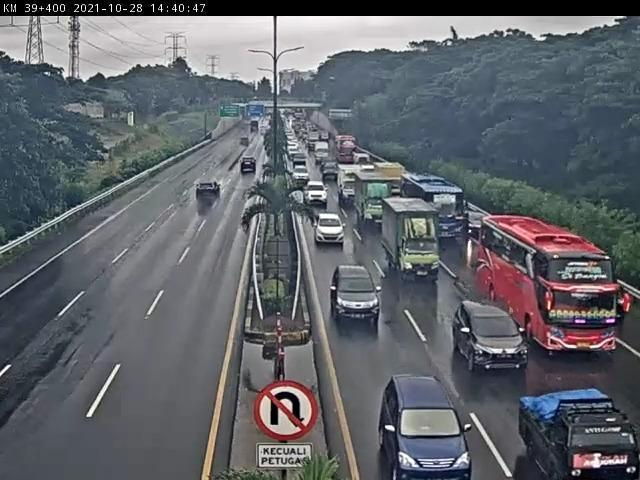bus: (479, 217, 620, 358), (402, 174, 469, 245)
car: (378, 375, 474, 480), (452, 302, 532, 374), (331, 266, 384, 322), (313, 212, 345, 244), (468, 211, 488, 240)
truck: (382, 196, 442, 283), (354, 170, 397, 233), (196, 181, 222, 202)
